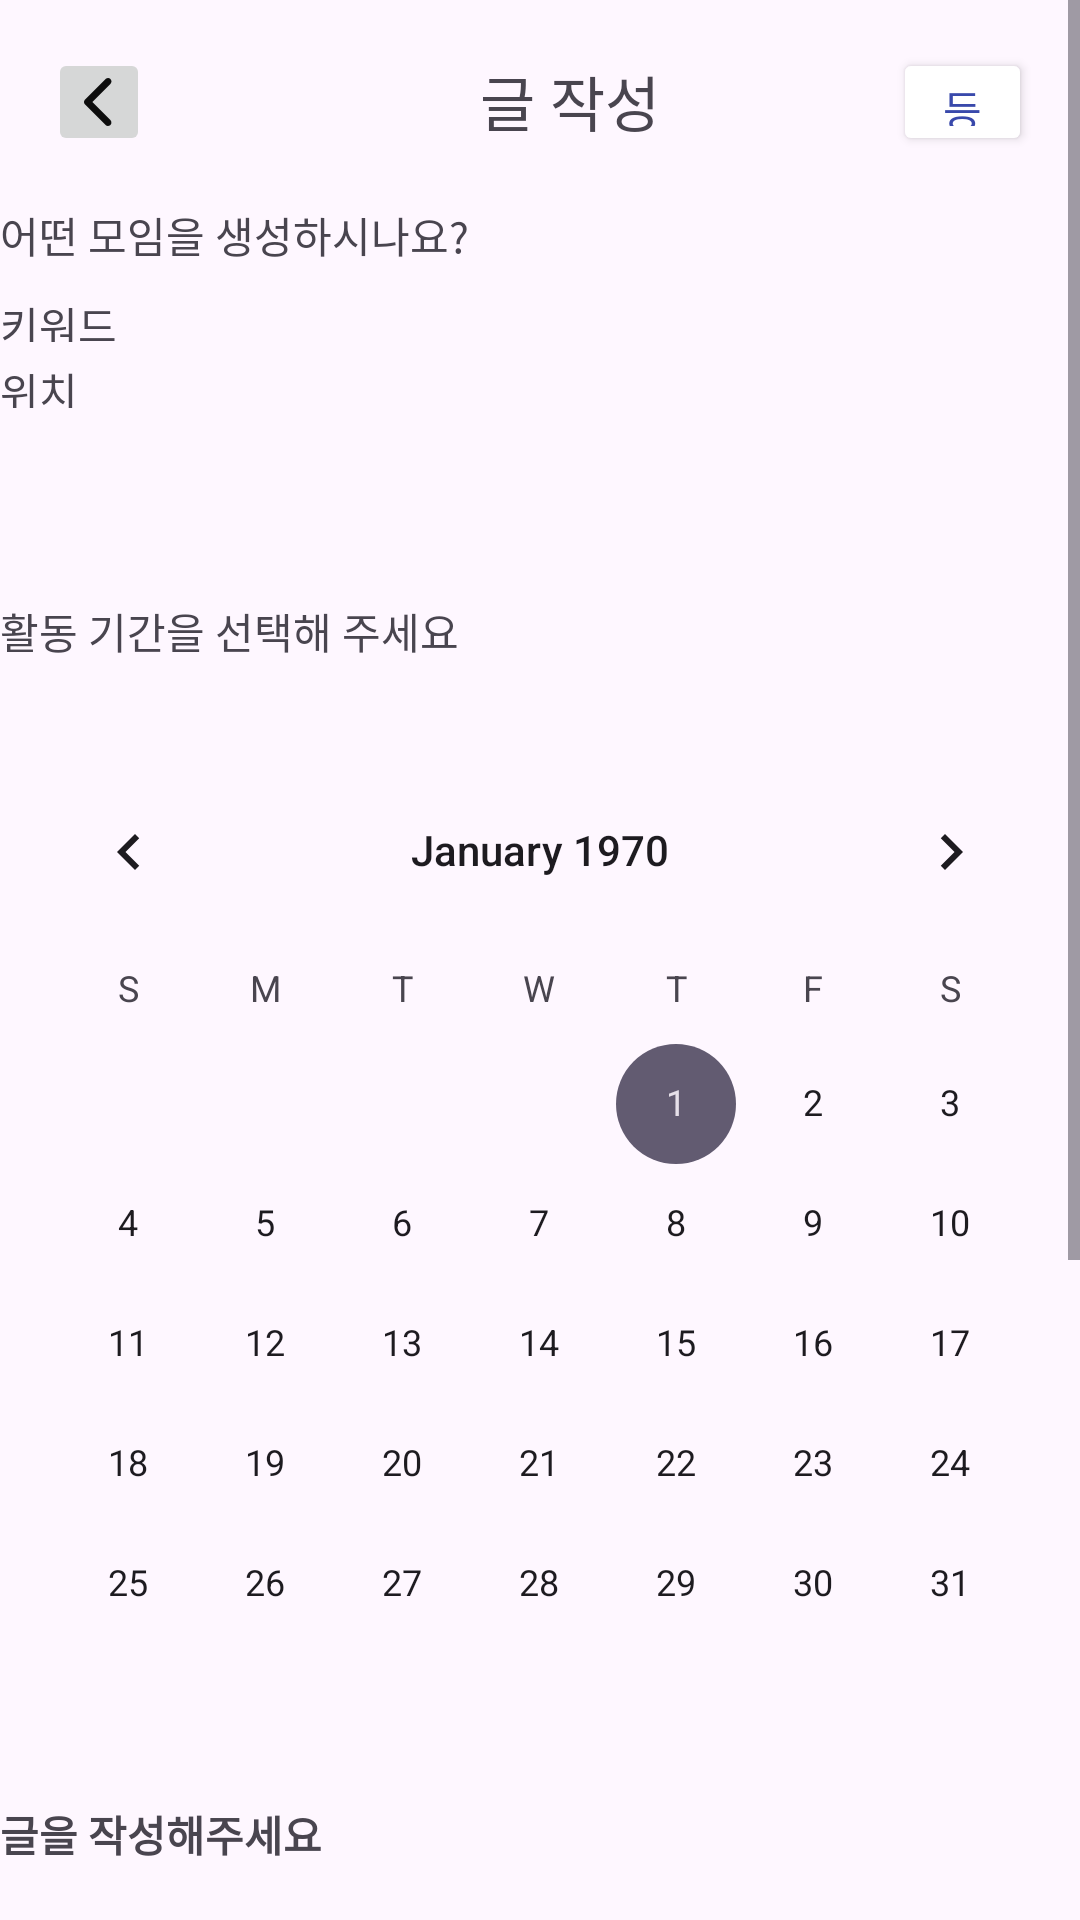

Icon bounding boxes for this 1080x1920 phone screenshot, format {"left": x1, "top": y1, "right": x2, "bottom": y2}:
back: {"left": 60, "top": 66, "right": 138, "bottom": 138}
